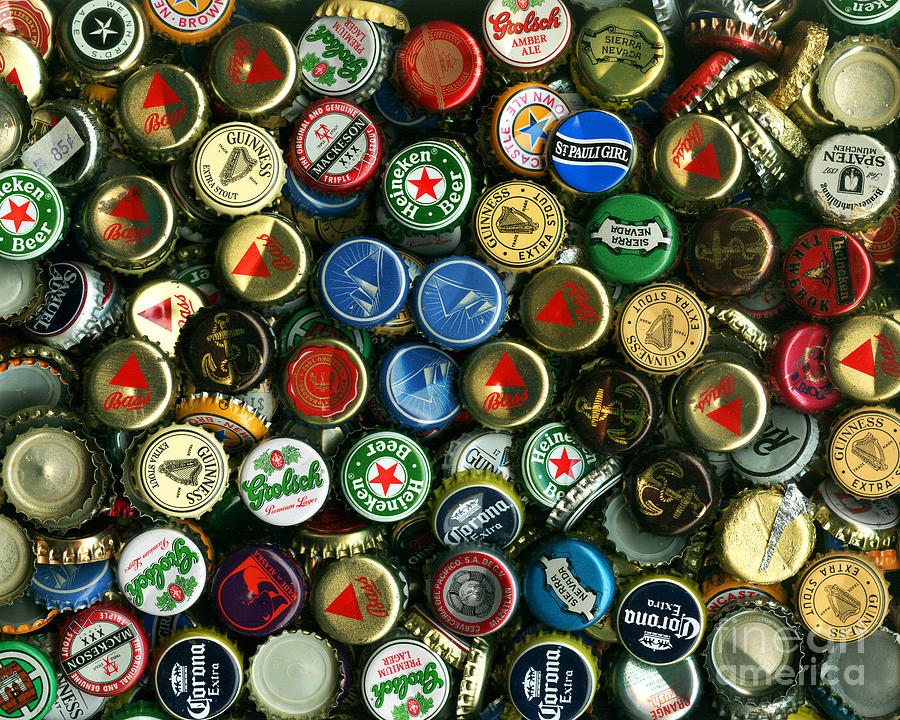corona: (502, 632, 601, 720), (614, 574, 705, 669), (150, 629, 244, 718)
heineken: (378, 140, 472, 235), (340, 432, 431, 526), (517, 417, 602, 516), (1, 167, 66, 267)
